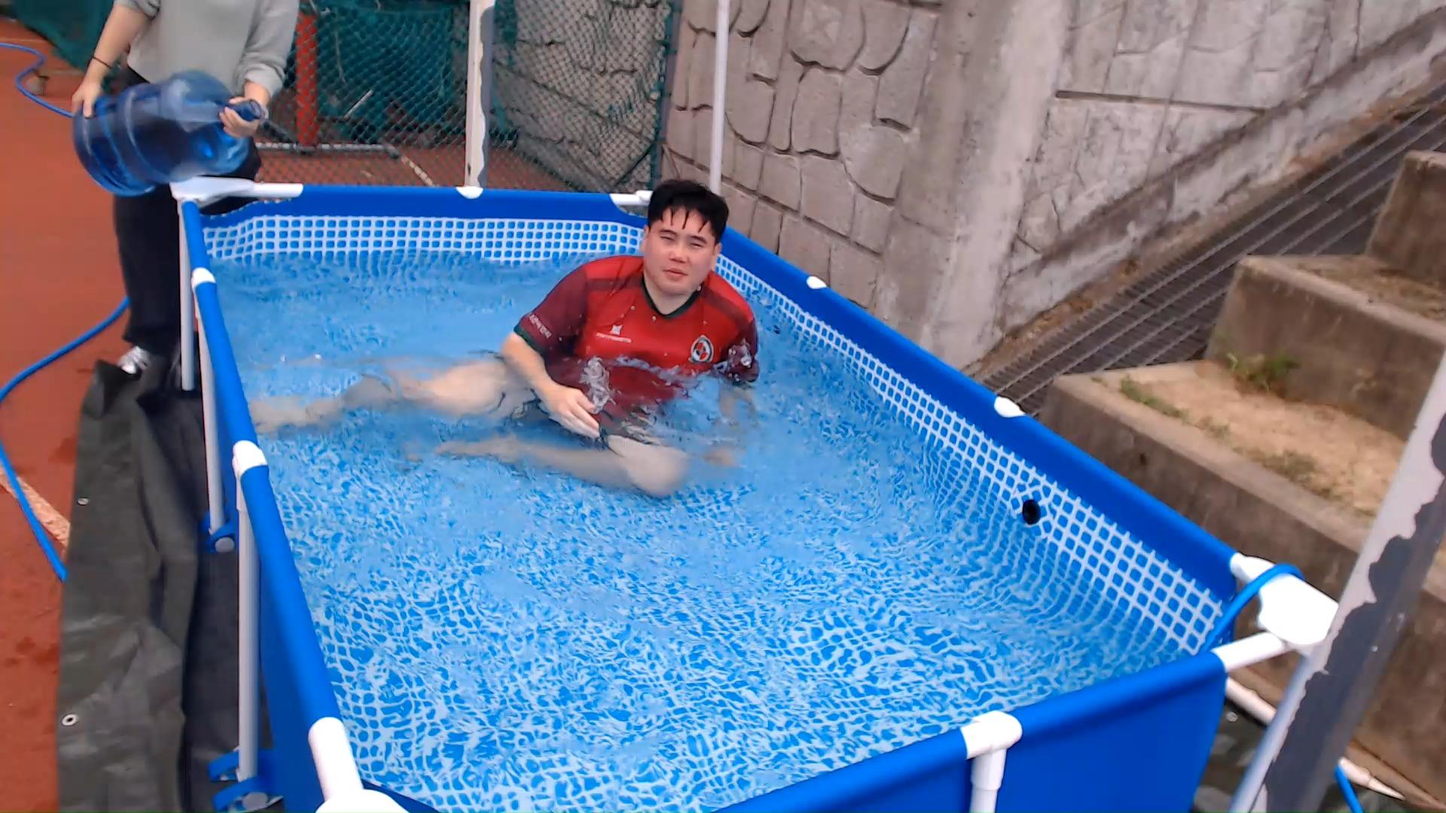Person-out-of-water: (82, 0, 294, 322)
Swimming: (260, 143, 779, 516)
